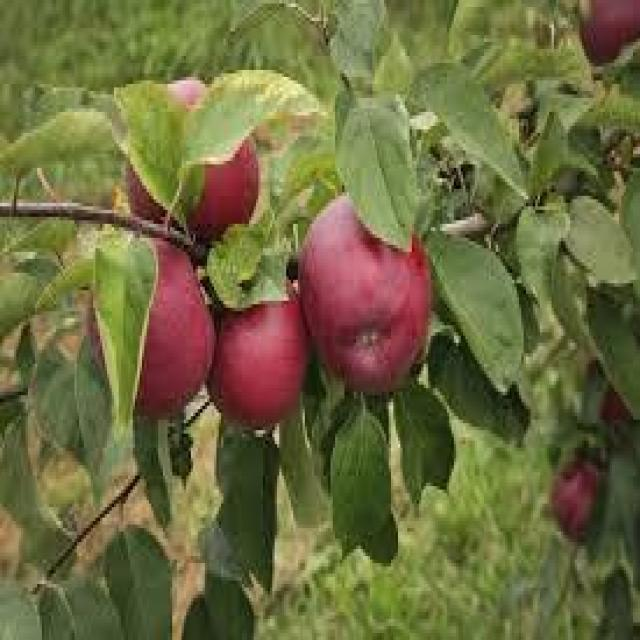fruit: (297, 184, 438, 402), (92, 223, 215, 421), (160, 76, 264, 240), (208, 285, 306, 429), (550, 458, 600, 540)
